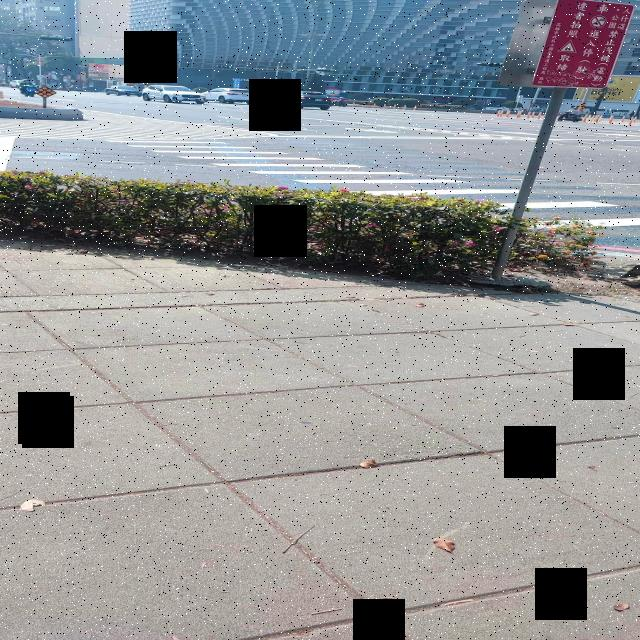zebra_crossing: (210, 92, 640, 294), (249, 109, 640, 325)
